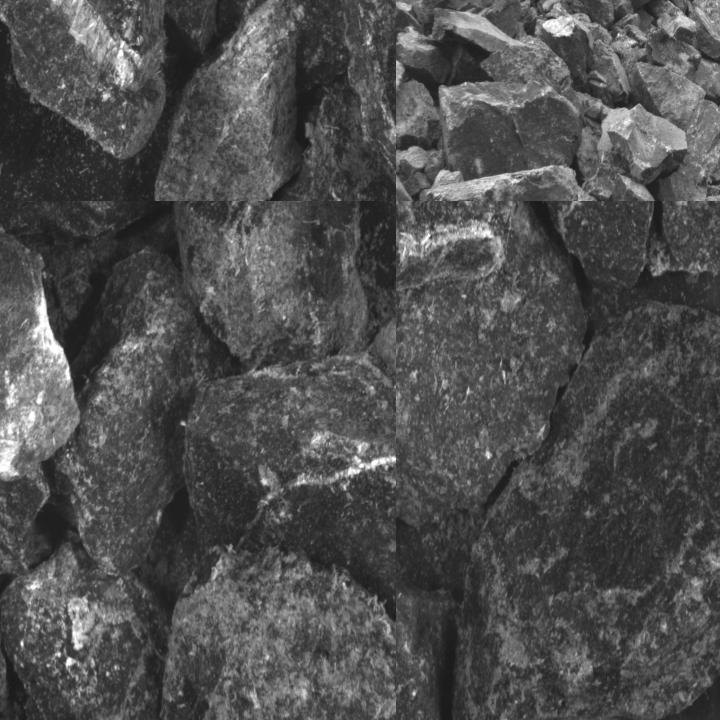stone: (454, 288, 719, 719), (44, 248, 245, 575), (396, 201, 591, 531), (186, 354, 395, 622), (158, 549, 395, 719), (171, 201, 370, 375), (0, 526, 173, 719), (155, 0, 306, 200), (0, 0, 171, 159), (0, 220, 79, 483), (223, 80, 395, 200), (501, 201, 656, 290), (0, 321, 51, 578), (232, 0, 395, 75), (396, 579, 454, 719), (0, 201, 175, 243), (649, 201, 719, 277), (542, 18, 590, 88), (396, 81, 443, 151), (396, 28, 453, 84), (591, 41, 632, 104), (646, 31, 700, 77), (396, 0, 452, 27), (695, 40, 719, 98), (487, 0, 522, 35), (396, 1, 424, 41), (442, 0, 494, 11), (671, 0, 692, 11)
